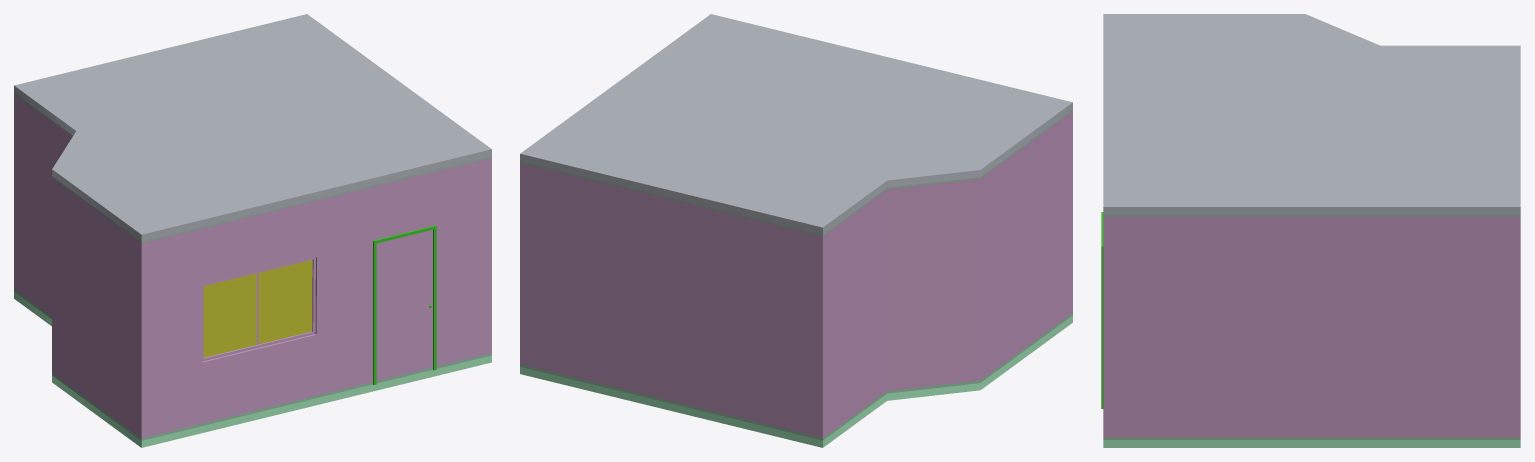
Rendered from FloorPlan22_physics.fbx.
The picture shows the model from 3 angles, left to right: view 1: azimuth 30°, elevation 25°; view 2: azimuth 150°, elevation 25°; view 3: azimuth 270°, elevation 25°; orthographic projection. The views are drawn at different scales.
Visible parts, largest first — view 1: StandardWallSize, Ceiling, WindowPane, Floor, StandardDoorFrame1, Window; view 2: StandardWallSize, Ceiling, Floor; view 3: StandardWallSize, Ceiling, Floor, StandardDoorFrame1.
Part boxes in pixels (x1=…): StandardWallSize: x1=14, y1=93, x2=491, y2=440; Ceiling: x1=14, y1=14, x2=491, y2=241; WindowPane: x1=203, y1=259, x2=312, y2=357; Floor: x1=14, y1=292, x2=491, y2=447; StandardDoorFrame1: x1=373, y1=225, x2=436, y2=384; Window: x1=202, y1=257, x2=315, y2=361; StandardWallSize: x1=520, y1=110, x2=1072, y2=440; Ceiling: x1=520, y1=14, x2=1072, y2=234; Floor: x1=520, y1=315, x2=1072, y2=447; StandardWallSize: x1=1103, y1=215, x2=1520, y2=439; Ceiling: x1=1103, y1=14, x2=1520, y2=214; Floor: x1=1103, y1=440, x2=1520, y2=447; StandardDoorFrame1: x1=1101, y1=212, x2=1103, y2=408.
Size of the model in its own units: 520 by 302 by 478.
